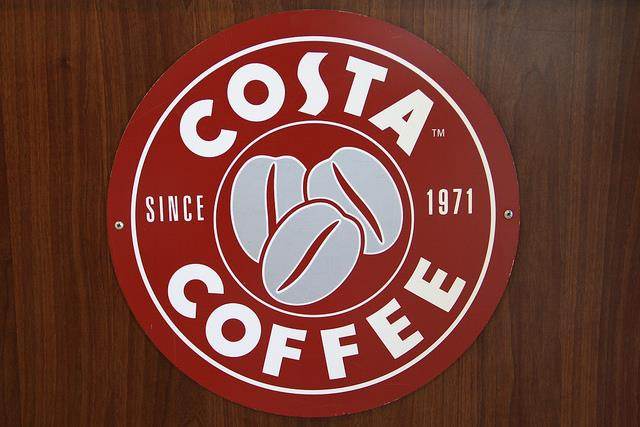costa_coffee: (120, 30, 499, 395)
